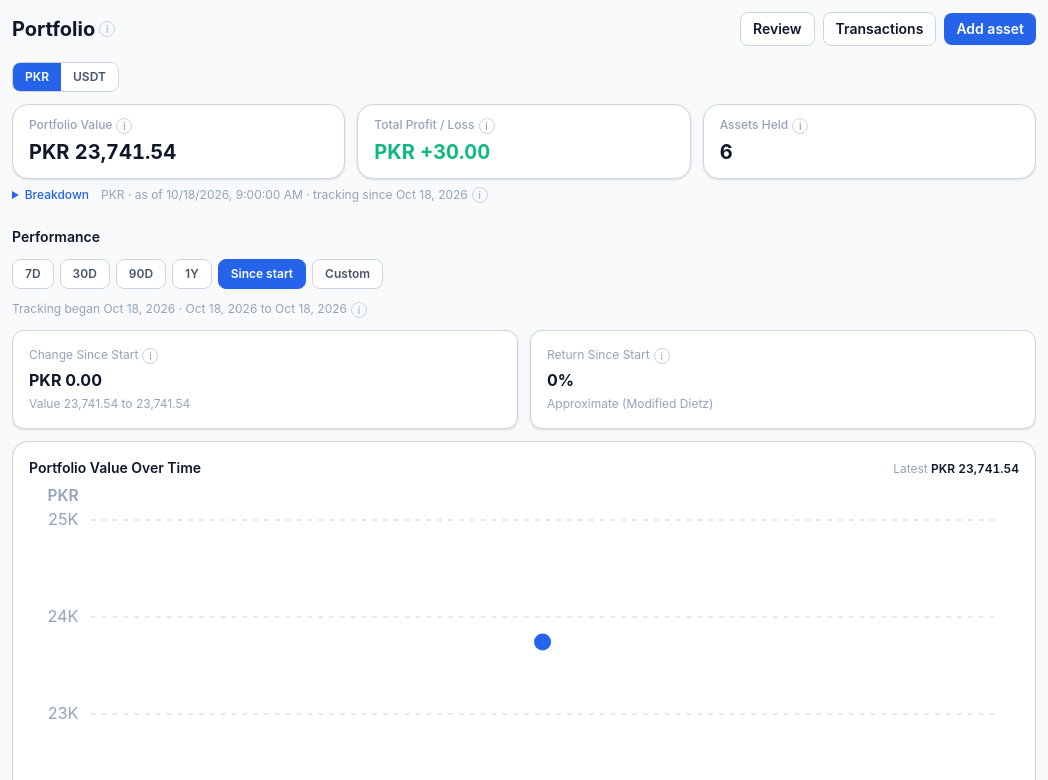
Test: Review no longer nags about things the app does itself › a current period with no problems says so, and old-trade prices are a note
The width and height of the screenshot is (1048, 780).
What coordinates should you click on to do the following:
click the button "Review"
I would click on:
 (777, 29)
Its box is x1=740 y1=12 x2=815 y2=46.
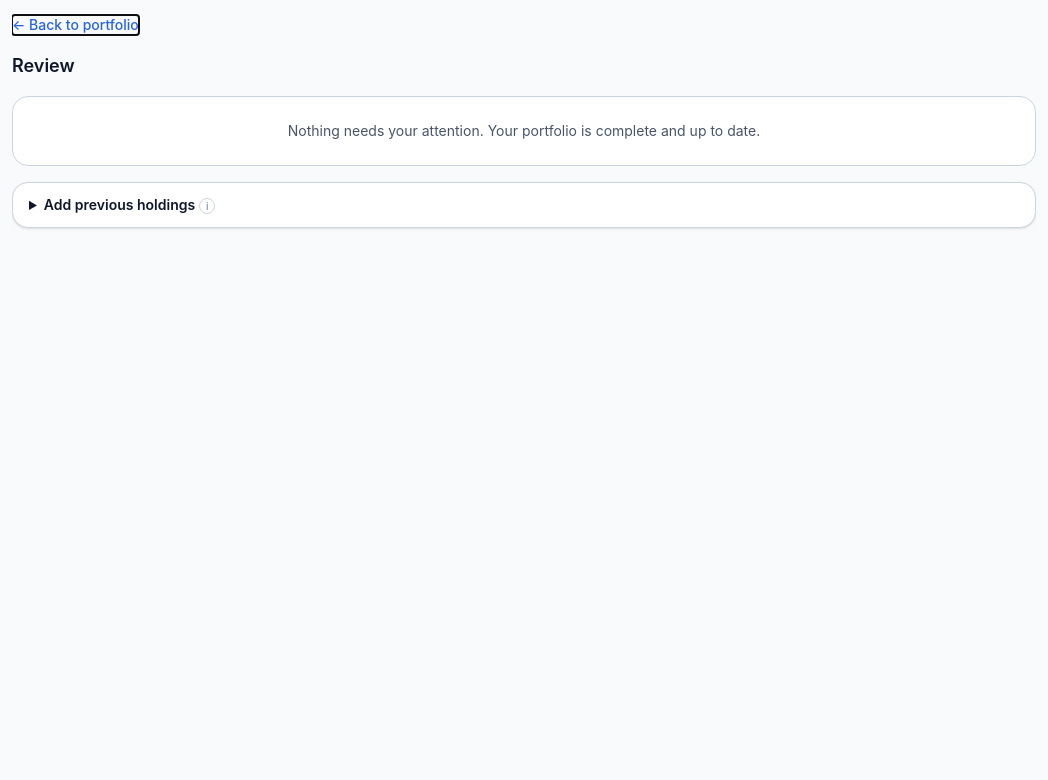
Expected: the text "Nothing needs your attention. Your portfolio is complete and up to date." is shown, x1=12 y1=96 x2=1036 y2=166
